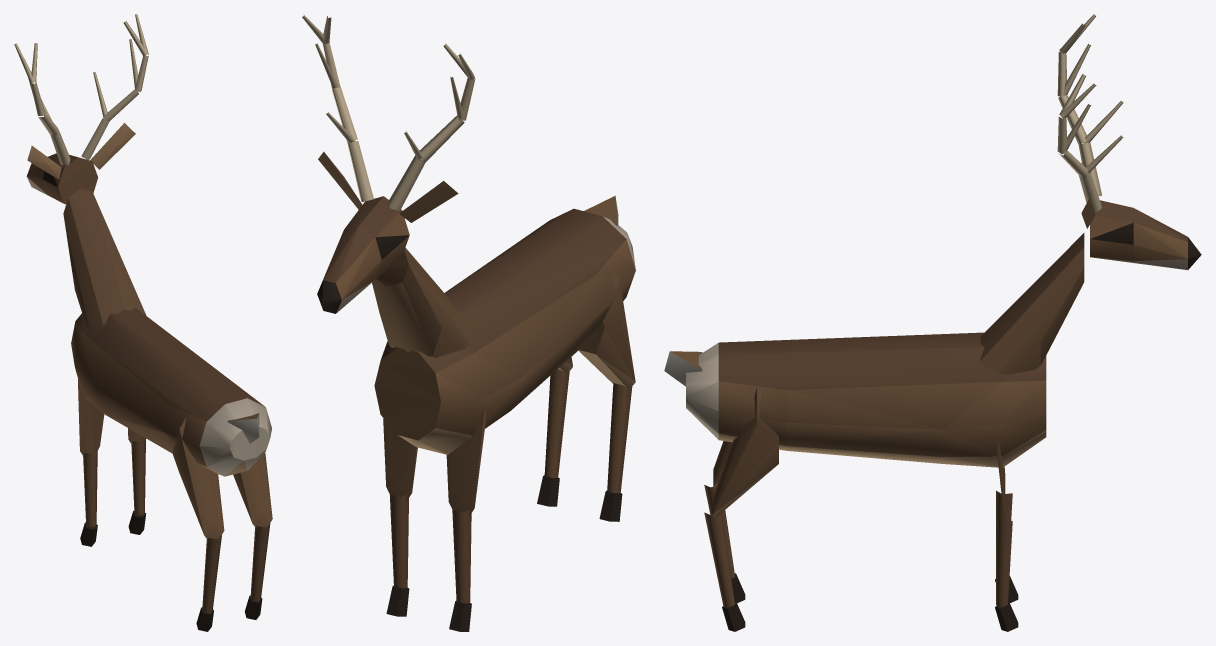
File: deer_stag.glb
3 renders of one model, left to right at view 1: azimuth 30°, elevation 25°; view 2: azimuth 150°, elevation 25°; view 3: azimuth 270°, elevation 25°, orthographic. The views are drawn at different scales.
Visible parts, largest first — view 1: Body, Neck, LegRL, LegRR, LegFL, LegFR; view 2: Body, Neck, LegRL, LegFL, LegFR, LegRR; view 3: Body, Neck, LegRR, LegFR, LegRL.
Boxes of the visible parts, bbox=[...] form: Body: bbox=[71, 308, 271, 476]; Neck: bbox=[14, 14, 148, 329]; LegRL: bbox=[172, 417, 224, 631]; LegRR: bbox=[233, 452, 272, 619]; LegFL: bbox=[78, 374, 104, 546]; LegFR: bbox=[128, 428, 146, 534]; Body: bbox=[374, 195, 635, 454]; Neck: bbox=[302, 14, 475, 357]; LegRL: bbox=[578, 263, 635, 521]; LegFL: bbox=[446, 401, 486, 631]; LegFR: bbox=[383, 418, 417, 616]; LegRR: bbox=[537, 357, 572, 506]; Body: bbox=[664, 332, 1046, 467]; Neck: bbox=[980, 14, 1201, 374]; LegRR: bbox=[704, 388, 778, 631]; LegFR: bbox=[995, 429, 1018, 631]; LegRL: bbox=[704, 441, 745, 603].
Bounding box in the file's own units: 0.6119 × 2.3 × 1.97.
